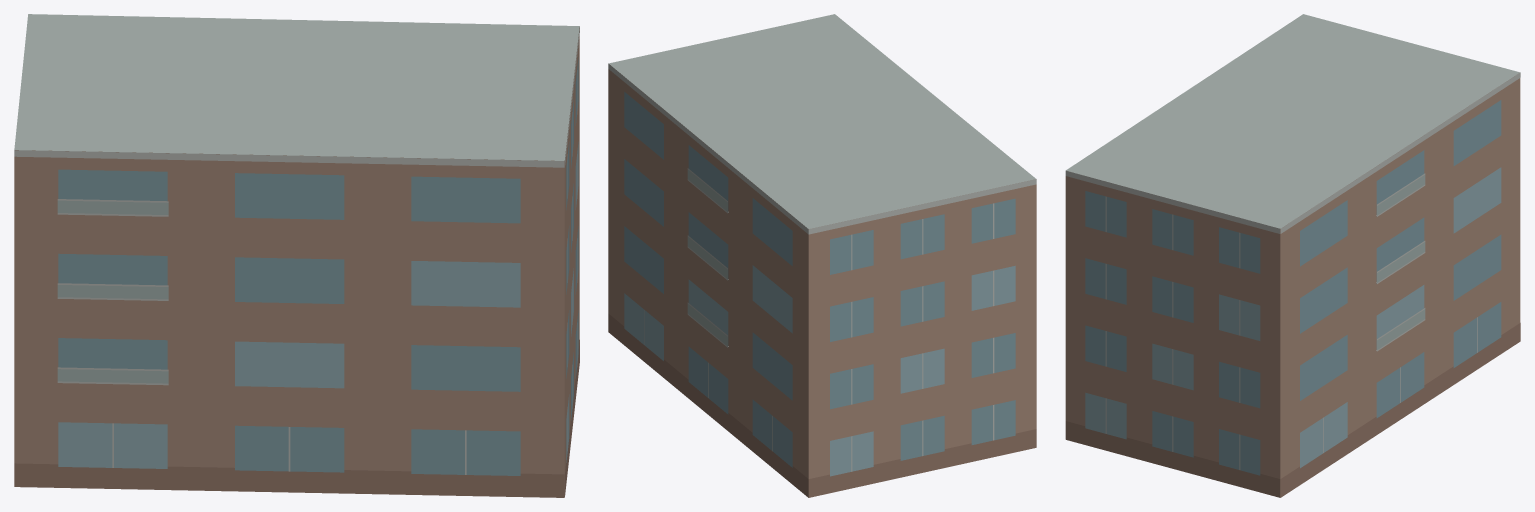
File: survey-upis-32886898.glb
The picture shows the model from 3 angles, left to right: view 1: azimuth 30°, elevation 25°; view 2: azimuth 150°, elevation 25°; view 3: azimuth 270°, elevation 25°; orthographic projection. The views are drawn at different scales.
Visible parts, largest first — view 1: survey-upis-32886898.tmp; view 2: survey-upis-32886898.tmp; view 3: survey-upis-32886898.tmp.
Boxes of the visible parts, <box> form: survey-upis-32886898.tmp: <box>14,14,579,497</box>; survey-upis-32886898.tmp: <box>608,14,1036,497</box>; survey-upis-32886898.tmp: <box>1065,14,1520,497</box>.
Bounding box in the file's own units: 20.89 × 12.2 × 18.7.
